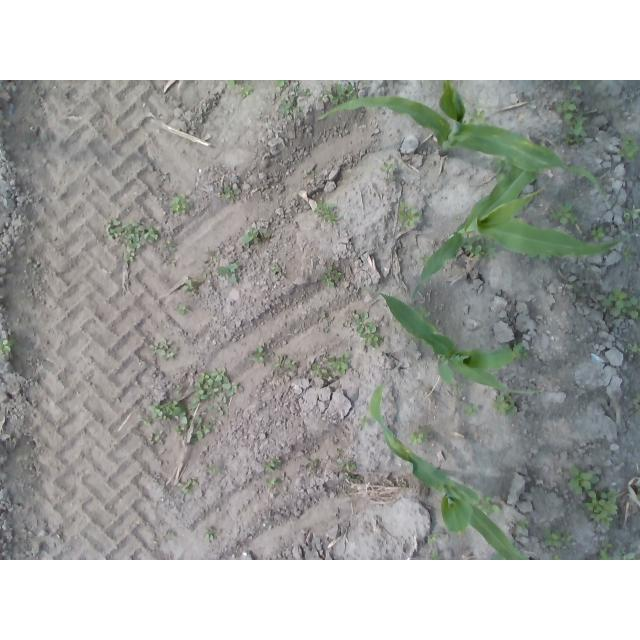Maize: (314, 80, 608, 200), (410, 158, 640, 302), (368, 380, 536, 560), (357, 284, 544, 397)
Weeds: (189, 367, 239, 413), (104, 219, 160, 249), (553, 100, 588, 145), (582, 489, 618, 528), (601, 286, 640, 322), (351, 312, 385, 349), (148, 398, 189, 427), (280, 84, 313, 116), (567, 465, 600, 495), (461, 237, 497, 260), (322, 83, 356, 106), (313, 198, 340, 225), (542, 526, 575, 548), (396, 200, 421, 228), (618, 131, 640, 162), (190, 417, 215, 444), (549, 203, 579, 225), (148, 338, 176, 361), (493, 154, 514, 184), (490, 394, 518, 415), (500, 342, 528, 362), (328, 353, 351, 375), (478, 493, 501, 515), (320, 266, 342, 287), (272, 355, 297, 373), (170, 194, 191, 215), (216, 263, 238, 283), (408, 303, 431, 322), (241, 227, 267, 243), (466, 108, 486, 125), (594, 540, 611, 560), (248, 345, 266, 363), (380, 161, 397, 179), (263, 456, 282, 472), (311, 362, 330, 378), (411, 428, 429, 444), (182, 478, 199, 494), (455, 378, 472, 394), (1, 337, 16, 355), (623, 245, 637, 264), (182, 278, 201, 292), (591, 226, 605, 244), (337, 458, 356, 471), (150, 428, 166, 441), (514, 518, 530, 531), (462, 402, 478, 415), (623, 208, 640, 220), (240, 85, 253, 100), (528, 254, 552, 262), (344, 472, 361, 483), (221, 187, 235, 200), (617, 552, 637, 561), (626, 342, 640, 354), (204, 528, 216, 541), (164, 240, 177, 252), (124, 251, 137, 262), (175, 304, 189, 314), (634, 393, 640, 416), (359, 416, 369, 429), (571, 80, 583, 90), (491, 552, 506, 560), (265, 477, 280, 485), (275, 80, 290, 88), (427, 532, 437, 544), (206, 466, 219, 475), (139, 415, 150, 425), (271, 266, 282, 276), (429, 549, 439, 560), (548, 554, 565, 560), (421, 254, 431, 263), (225, 80, 236, 88), (174, 383, 182, 393), (572, 284, 580, 292), (175, 425, 183, 433), (636, 486, 640, 502), (454, 214, 462, 220), (337, 450, 343, 455)
